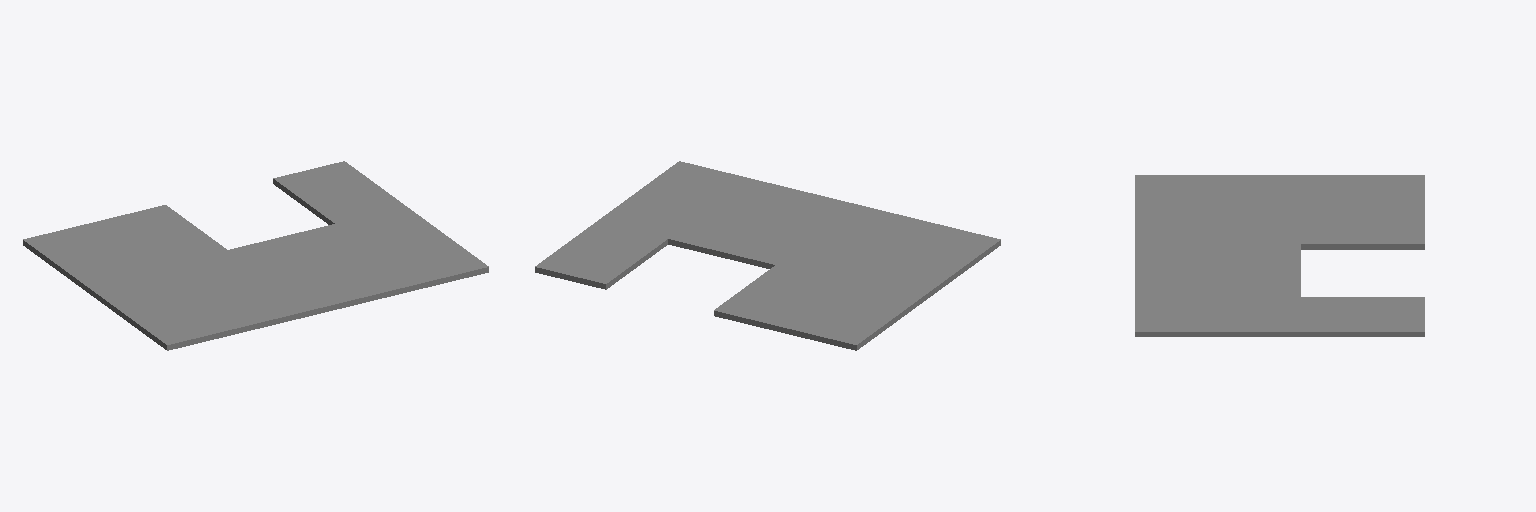
Rendered from office_roof.obj.
3 renders of one model, left to right at view 1: azimuth 30°, elevation 25°; view 2: azimuth 150°, elevation 25°; view 3: azimuth 270°, elevation 25°, orthographic.
Visible parts, largest first — view 1: Line005; view 2: Line005; view 3: Line005.
Part boxes in pixels (left/top/right/bottom): Line005: left=23, top=161, right=488, bottom=350; Line005: left=535, top=161, right=1000, bottom=350; Line005: left=1135, top=175, right=1424, bottom=336.
Bounding box in the file's own units: 18 × 0.3 × 14.